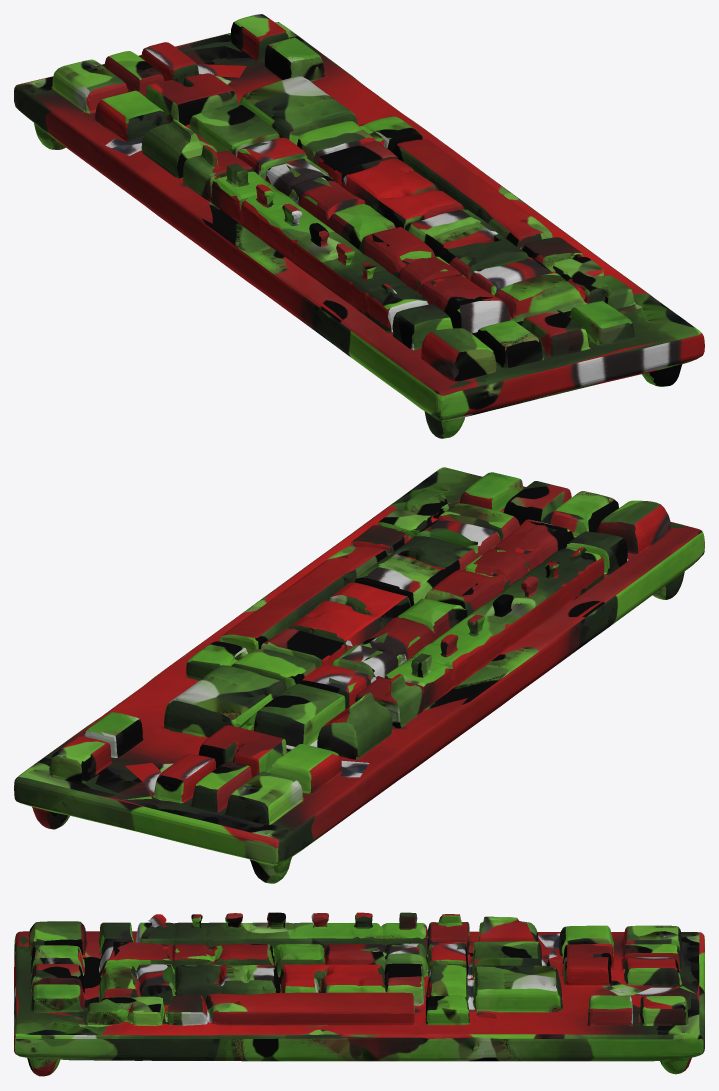
Rendered from sample.obj.
The picture shows the model from 3 angles, top to bottom: view 1: azimuth 30°, elevation 25°; view 2: azimuth 150°, elevation 25°; view 3: azimuth 270°, elevation 25°; orthographic projection. The views are drawn at different scales.
Bounding box in the file's own units: 0.1386 × 0.05 × 0.3836.
